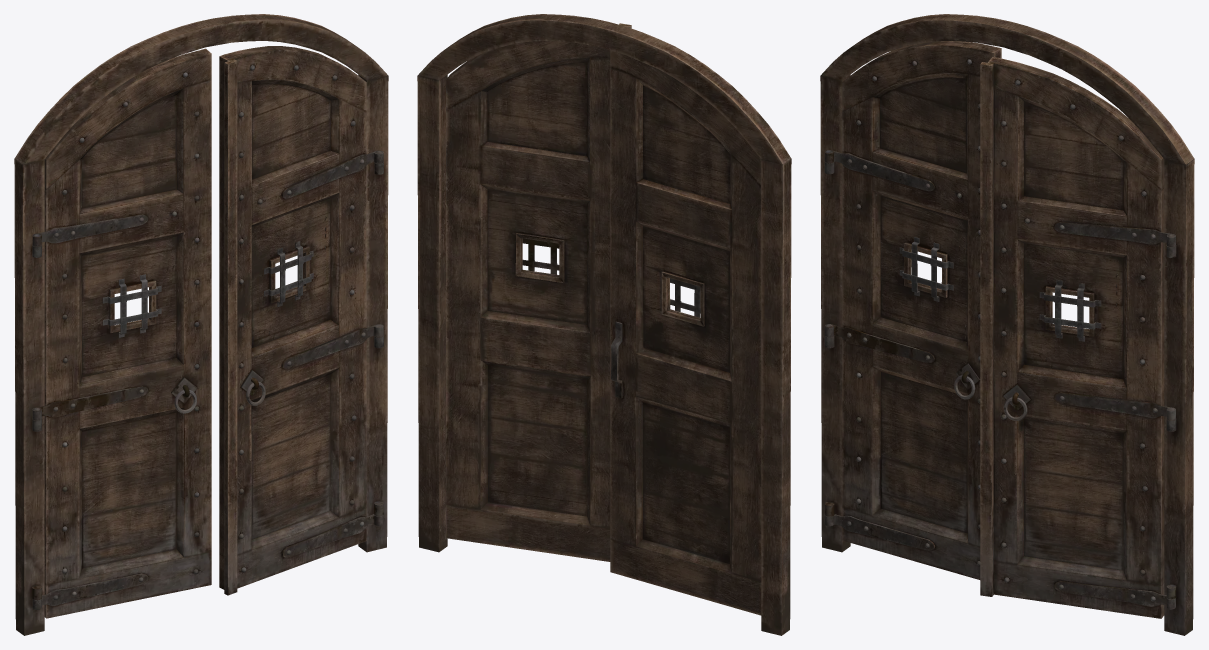
Rendered from large_castle_door.glb.
3 renders of one model, left to right at view 1: azimuth 30°, elevation 25°; view 2: azimuth 150°, elevation 25°; view 3: azimuth 330°, elevation 25°, orthographic.
Visible parts, largest first — view 1: large_castle_door_frame; view 2: large_castle_door_frame; view 3: large_castle_door_frame.
Part boxes in pixels (x1=…): large_castle_door_frame: x1=14, y1=14, x2=388, y2=635; large_castle_door_frame: x1=417, y1=14, x2=791, y2=635; large_castle_door_frame: x1=820, y1=14, x2=1194, y2=635.
Size of the model in its own units: 2.01 by 2.96 by 0.2964.
1 material, 1 textured.
